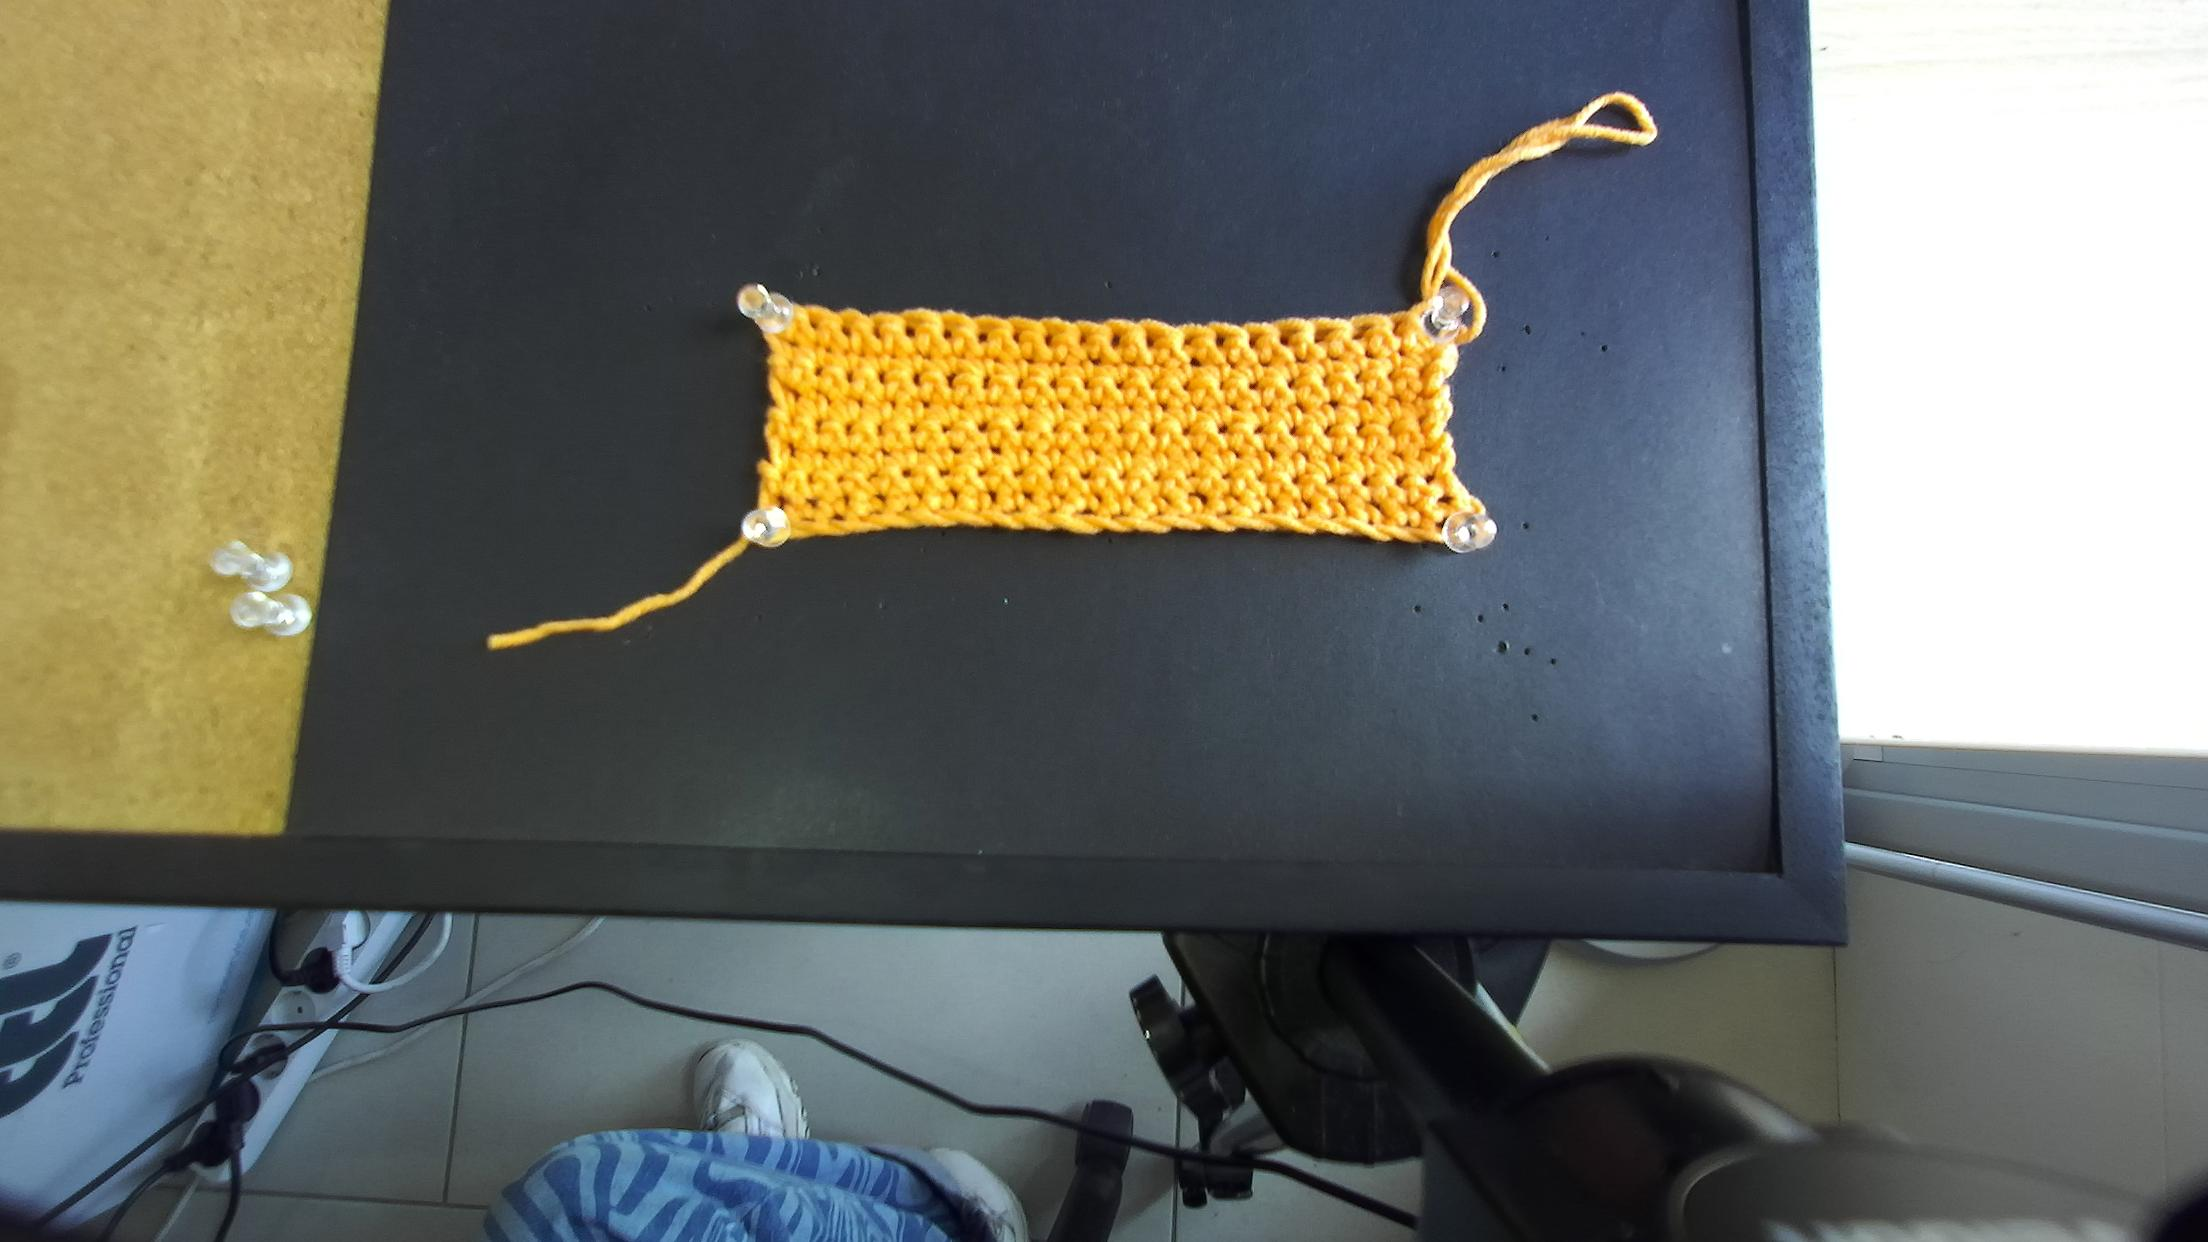hole: (1352, 327, 1370, 340), (1314, 332, 1332, 344), (1249, 335, 1261, 350), (1280, 334, 1292, 348), (1392, 322, 1402, 338), (906, 325, 916, 340), (842, 325, 851, 340), (1111, 334, 1120, 349), (874, 325, 882, 341), (1146, 335, 1155, 349), (1216, 334, 1225, 348), (979, 332, 988, 344), (1184, 336, 1193, 347), (1046, 334, 1053, 347), (810, 318, 818, 328), (1080, 333, 1086, 346), (945, 329, 952, 340), (1013, 333, 1020, 343)
swatch: (746, 252, 1498, 552)
